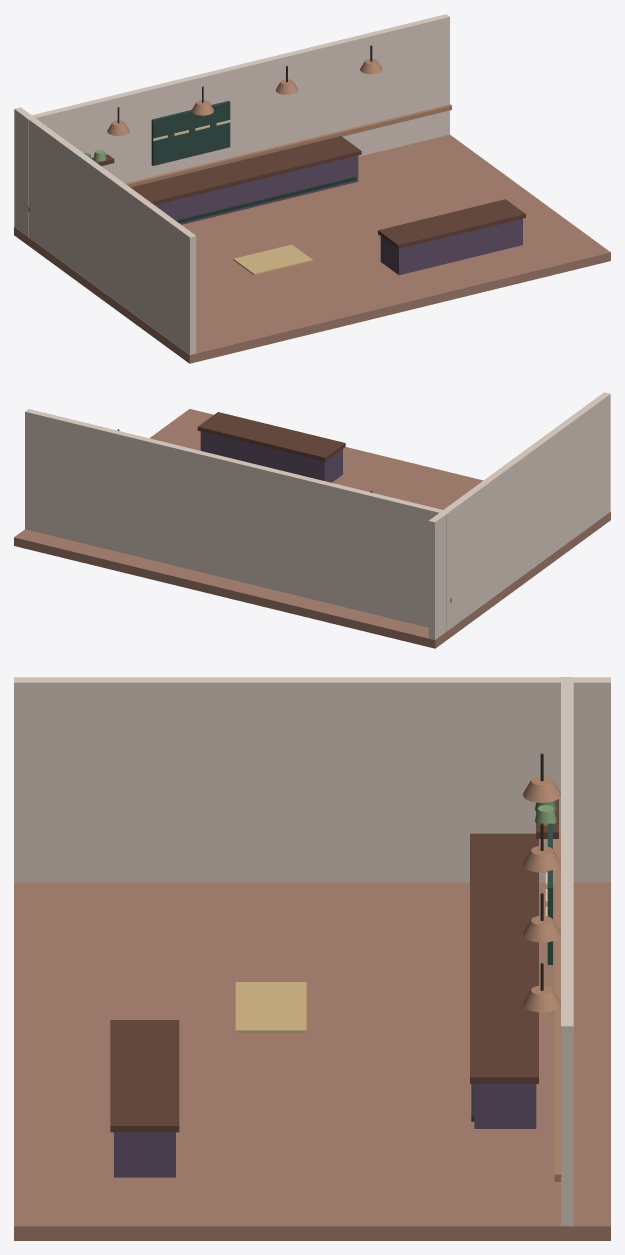
Rendered from cafe-shell-stage-08.glb.
3 views of the same model, one above another, from view 1: azimuth 30°, elevation 25°; view 2: azimuth 150°, elevation 25°; view 3: azimuth 270°, elevation 25° (orthographic). The views are drawn at different scales.
Visible parts, largest first — view 1: ExpandedFloor, BackWall, SideWall, StraightWalnutTop, StraightMainCounter, ServeCounter, MenuBoard, ServeWalnutTop, WallTrim, CafeRug, BackCounterKickboard; view 2: BackWall, SideWall, ExpandedFloor, ServeWalnutTop, ServeCounter; view 3: ExpandedFloor, SideWall, StraightWalnutTop, ServeWalnutTop, BackWall, CafeRug, PendantShade (×4), ServeCounter, StraightMainCounter, WallTrim.
Part boxes in pixels (x1,y1,x2,y2): ExpandedFloor: (14,134,610,363); BackWall: (25,14,449,236); SideWall: (14,107,196,354); StraightWalnutTop: (130,136,361,205); StraightMainCounter: (155,155,358,224); ServeCounter: (380,218,522,275); MenuBoard: (151,100,230,165); ServeWalnutTop: (378,199,525,248); WallTrim: (28,104,451,212); CafeRug: (233,244,312,275); BackCounterKickboard: (175,176,356,223); BackWall: (25,409,449,631); SideWall: (428,392,610,639); ExpandedFloor: (14,409,610,648); ServeWalnutTop: (197,412,345,461); ServeCounter: (200,431,342,482); ExpandedFloor: (14,882,610,1240); SideWall: (14,677,610,882); StraightWalnutTop: (470,833,538,1083); ServeWalnutTop: (110,1020,179,1132); BackWall: (561,677,573,1226); CafeRug: (235,982,306,1032); PendantShade (×4): (523,776,560,1012); ServeCounter: (114,1132,175,1177); StraightMainCounter: (474,1084,536,1128); WallTrim: (554,831,561,1181).
Size of the model in its own units: 18 by 5.16 by 13.
